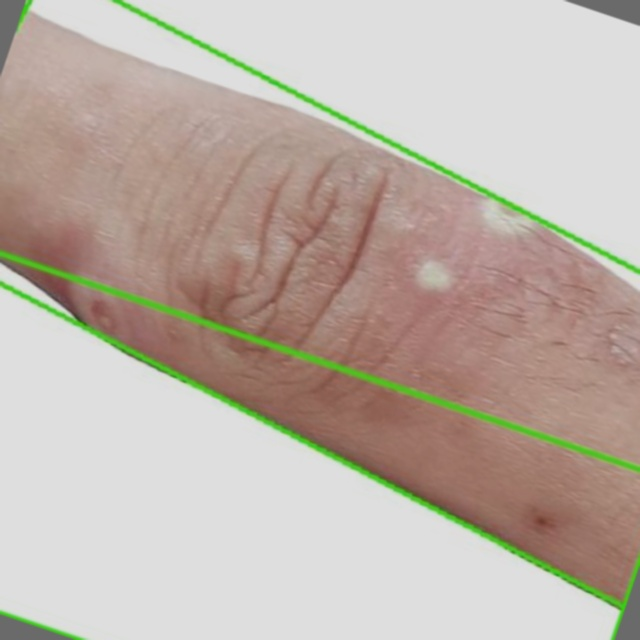Scabies: (0, 0, 639, 609), (0, 253, 639, 639)
